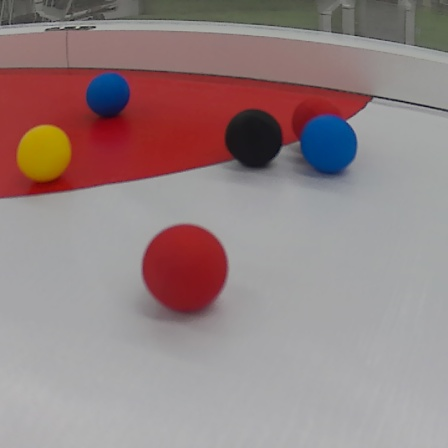black: (225, 103, 285, 166)
blue: (301, 121, 364, 174), (86, 73, 130, 115)
red: (141, 222, 229, 316), (296, 96, 345, 140)
red_base: (3, 61, 396, 196)
yellow: (16, 123, 71, 183)
